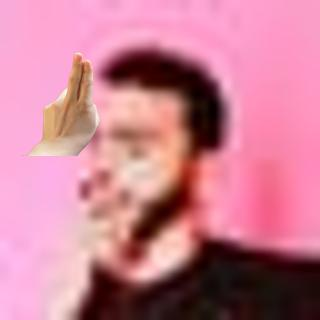DHAVE: (35, 48, 103, 146)
